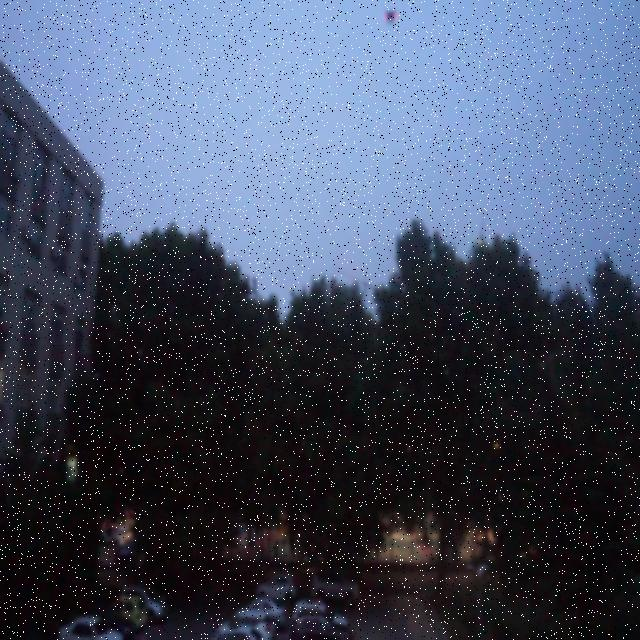UAV: (384, 10, 397, 26)
